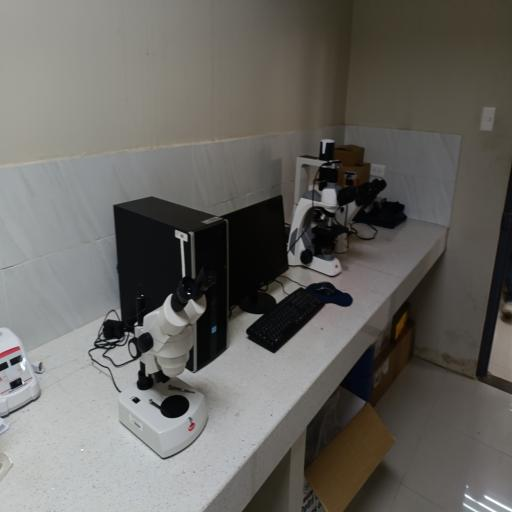Microscopio_estereo: (112, 259, 232, 464)
